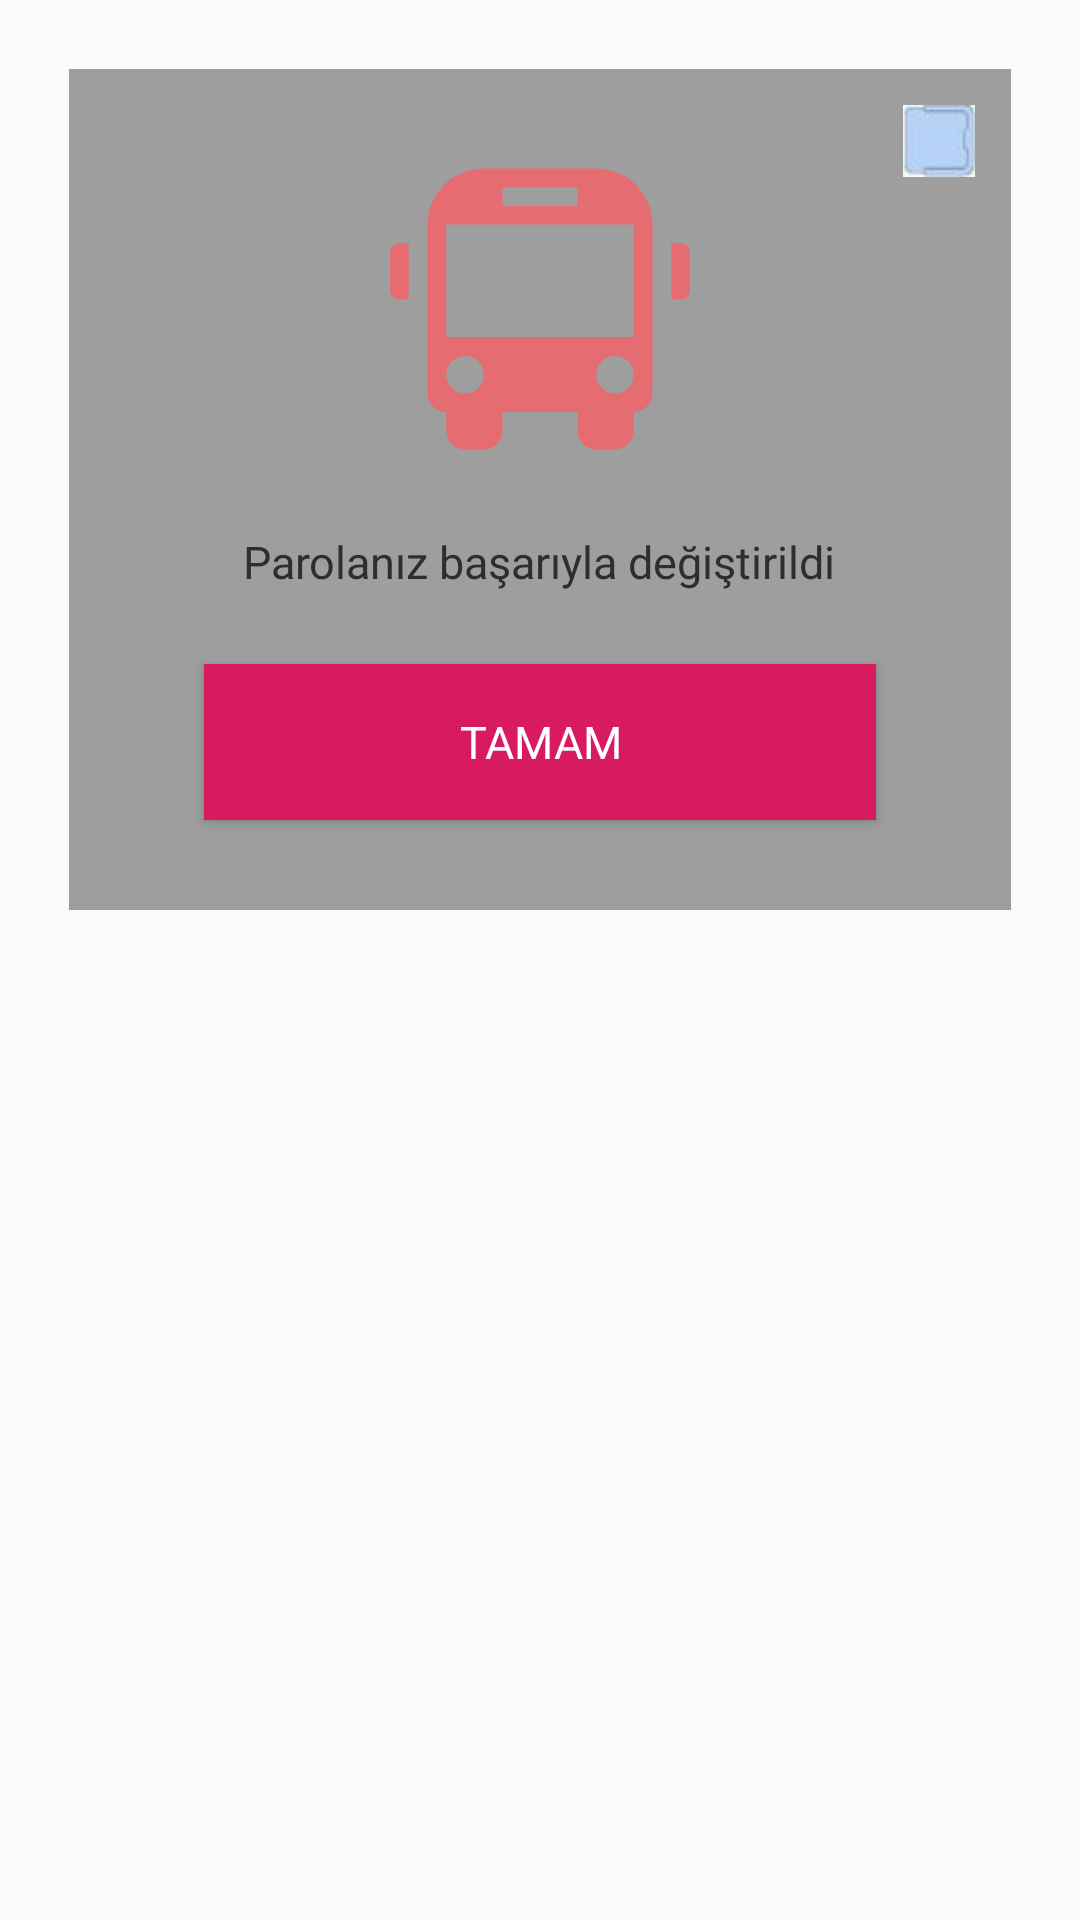

Named icons in this screenshot (1080x1920) and their centers, (x,y):
bus melon: (540,309)
